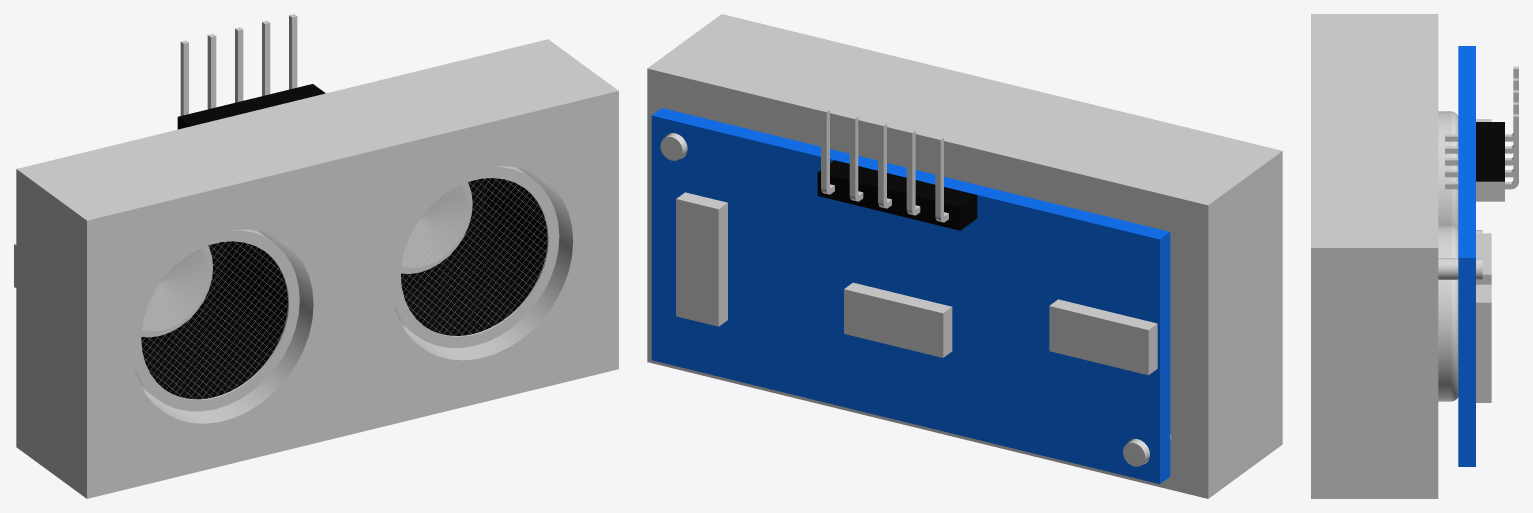
The model's file is HY-SRF05.glb.
3 views of the same model, side by side, from view 1: azimuth 30°, elevation 25°; view 2: azimuth 150°, elevation 25°; view 3: azimuth 270°, elevation 25° (orthographic). The views are drawn at different scales.
Parts seen in each view (by area): view 1: HY-SRF05; view 2: HY-SRF05; view 3: HY-SRF05.
Part boxes in pixels (x1,y1,x2,y2): HY-SRF05: [14, 14, 618, 498]; HY-SRF05: [647, 14, 1282, 498]; HY-SRF05: [1311, 14, 1518, 498].
Size of the model in its own units: 0.05 by 0.0289 by 0.0188.
